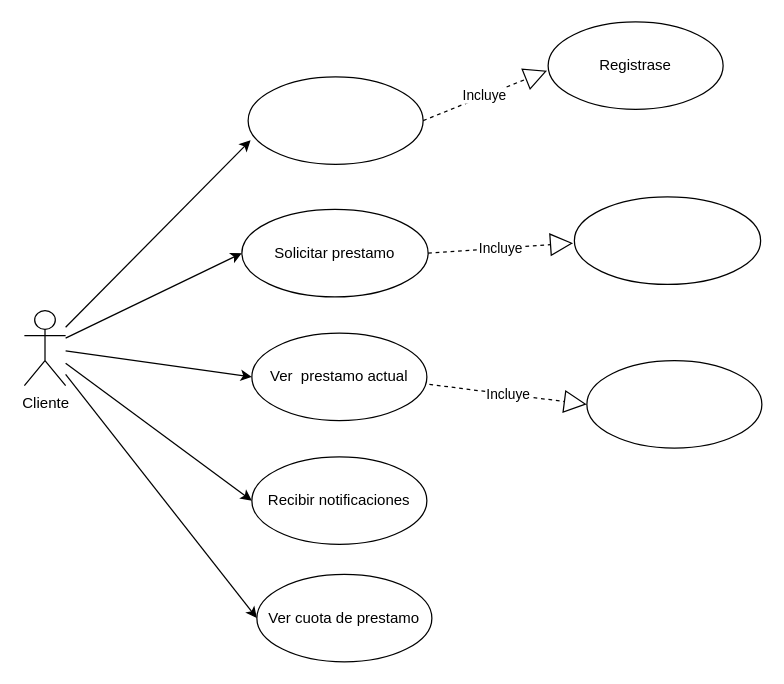
This 784x684 diagram has some shape labels left out. Here are the shapes that lost their labels. From the top down, the box of each, then its label:
(247, 76, 423, 164): Iniciar session
(573, 196, 761, 284): Cargar requisitos de prestamo
(586, 359, 762, 448): Informacion de prestamo & cuotas
